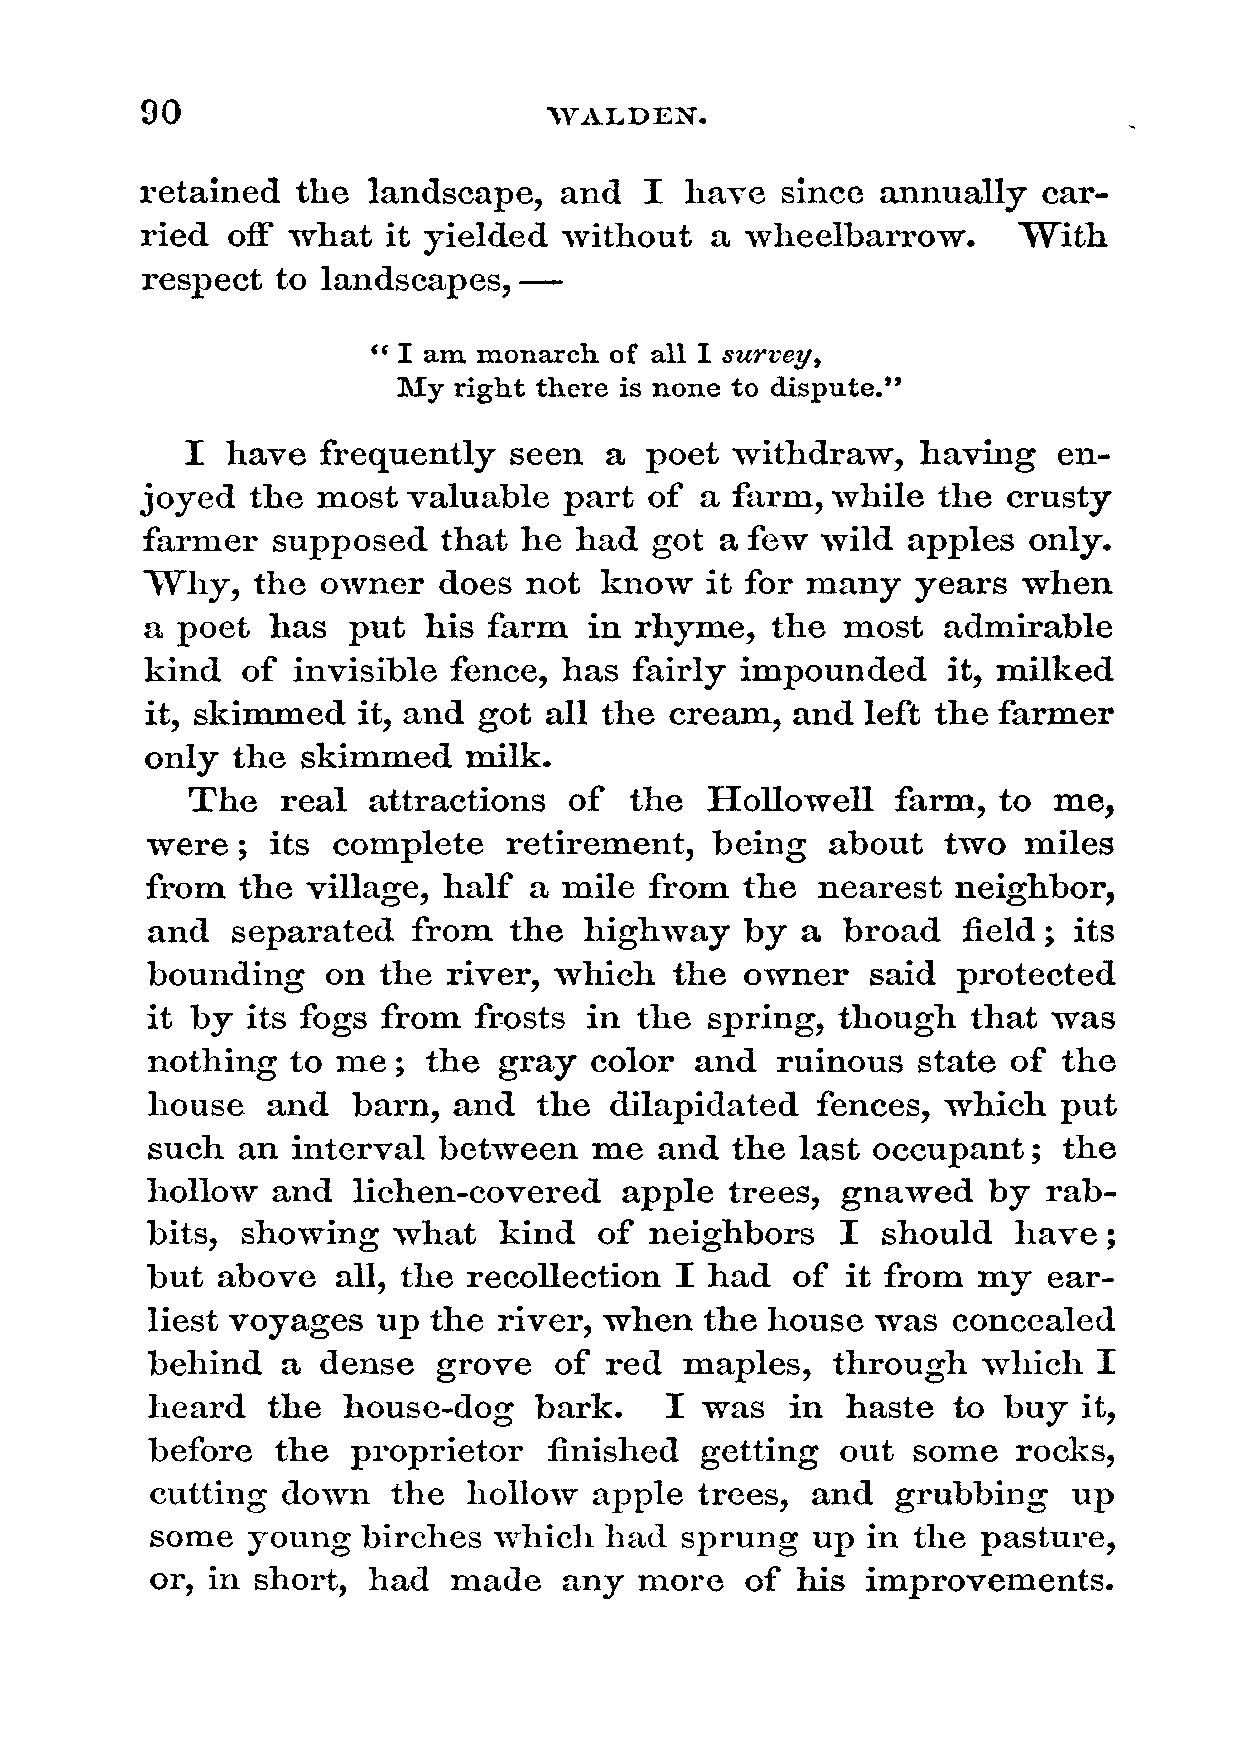content: (136, 172, 1125, 1606)
content_chapter: (535, 99, 714, 127)
content_pagenumber: (136, 89, 191, 138)
